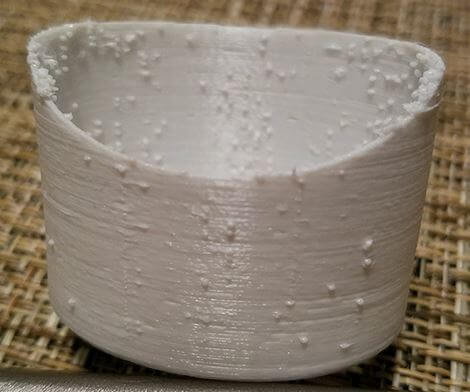blob: (327, 41, 410, 109), (114, 166, 158, 290), (42, 35, 165, 75), (201, 211, 257, 296), (180, 33, 229, 100), (324, 278, 383, 328), (84, 104, 136, 149), (141, 102, 170, 172), (281, 303, 321, 351), (355, 222, 381, 274), (298, 135, 333, 161), (53, 286, 85, 310), (361, 114, 392, 136)
